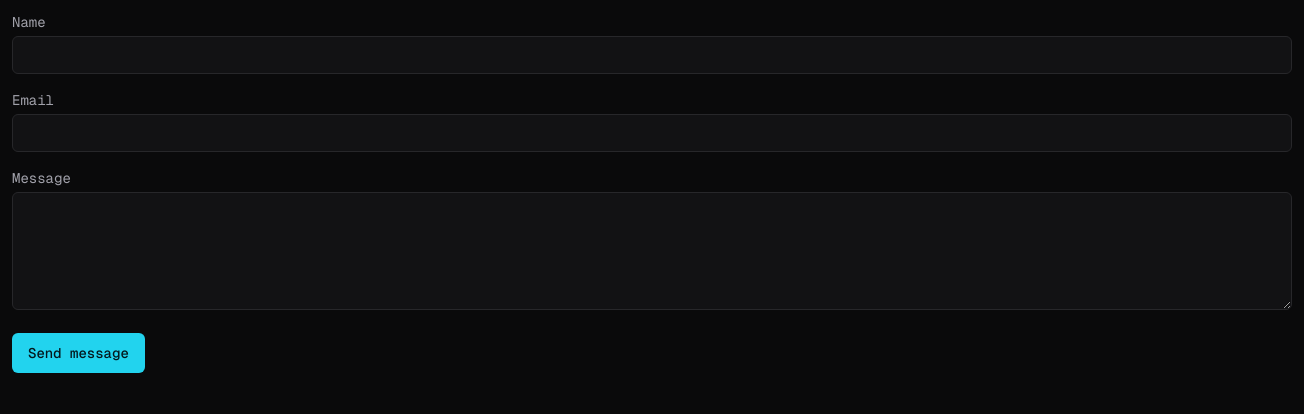
ContactForm › keeps entered values after an error response
Type "Ada" into the field labelled "Name" at (652, 55), box 12,36 -> 1292,74
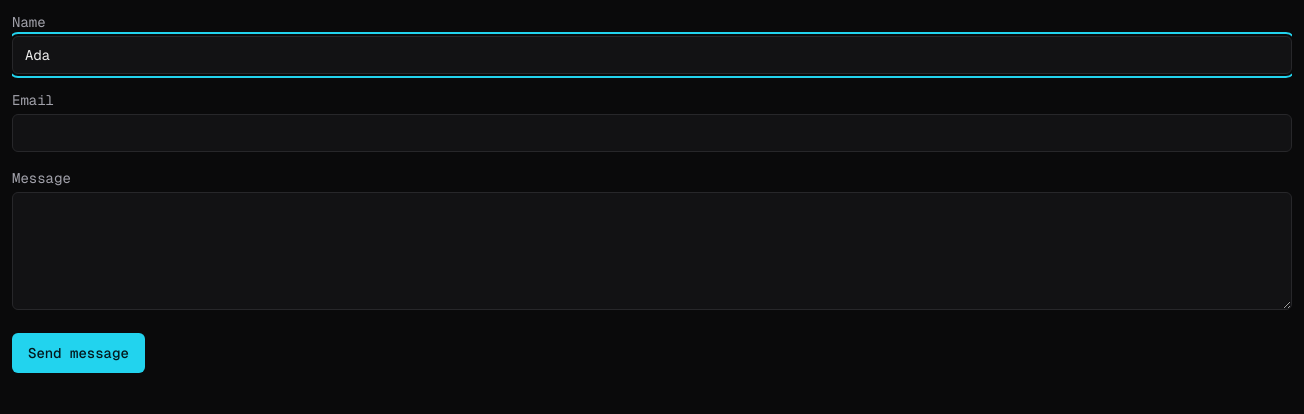
Type "ada@example.com" into the field labelled "Email" at (652, 133), box 12,114 -> 1292,152
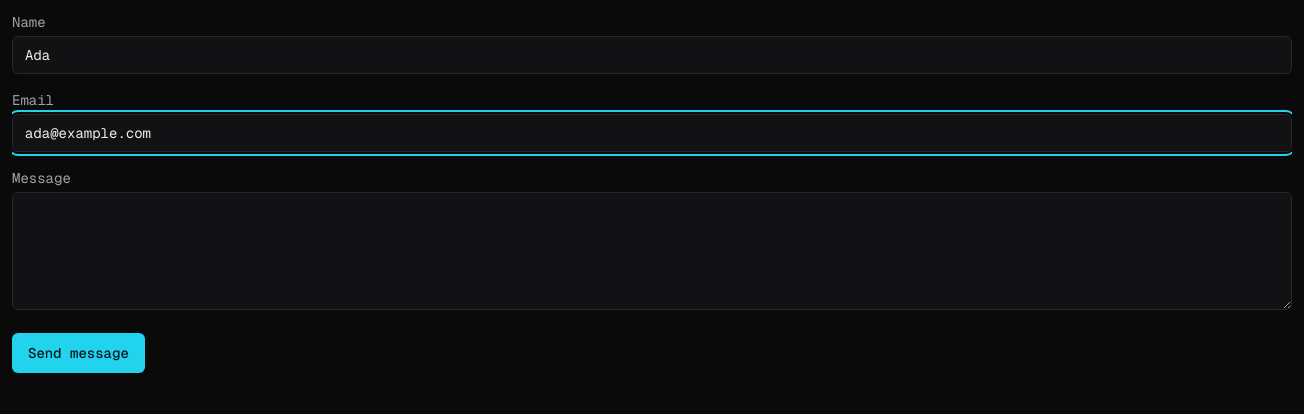
Type "short" into the text box labelled "Message" at (652, 251), box 12,192 -> 1292,310
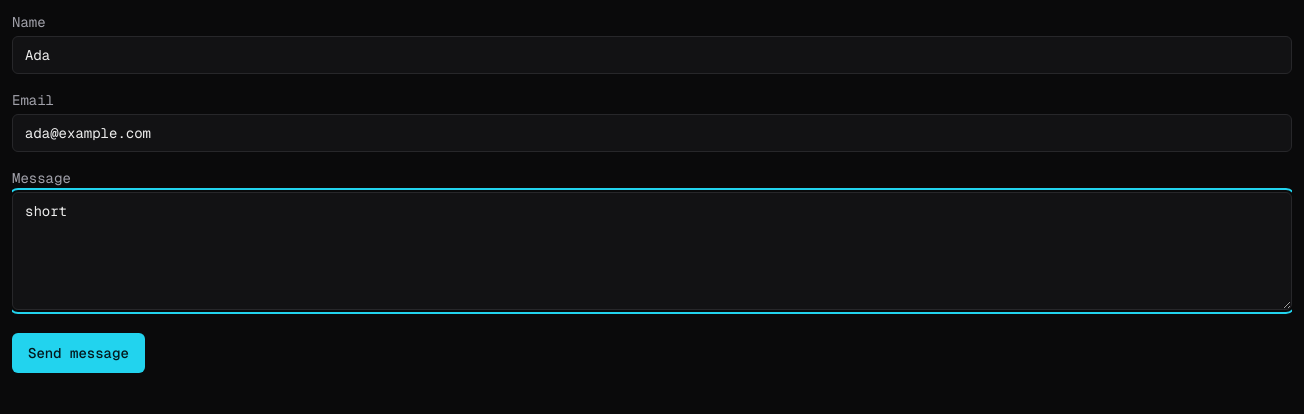
Click the button "Send message" at (78, 353), box 12,333 -> 145,373
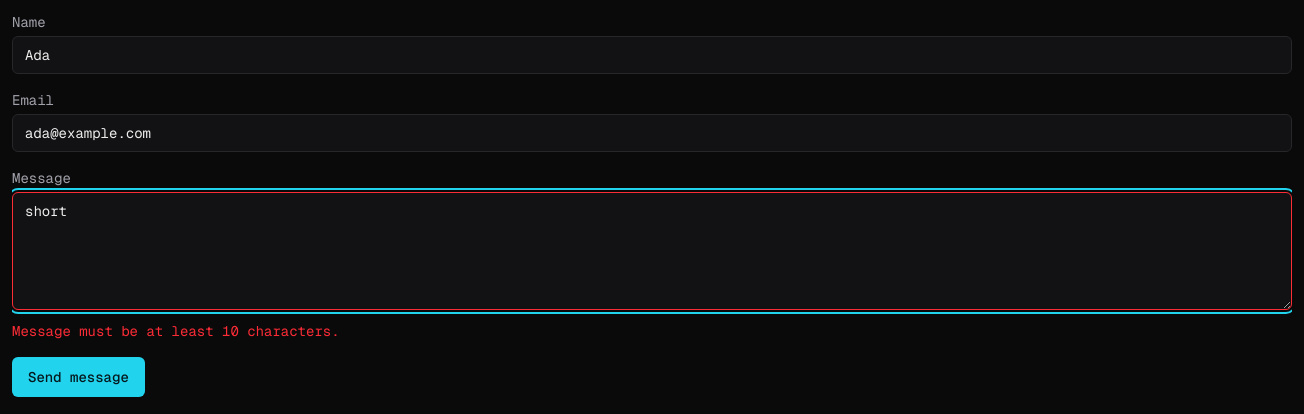
Expected: the field labelled "Name" holds "Ada", 12,36 -> 1292,74
Expected: the field labelled "Email" holds "ada@example.com", 12,114 -> 1292,152
Expected: the text "Message must be at least 10 characters." is shown, 12,322 -> 340,340
